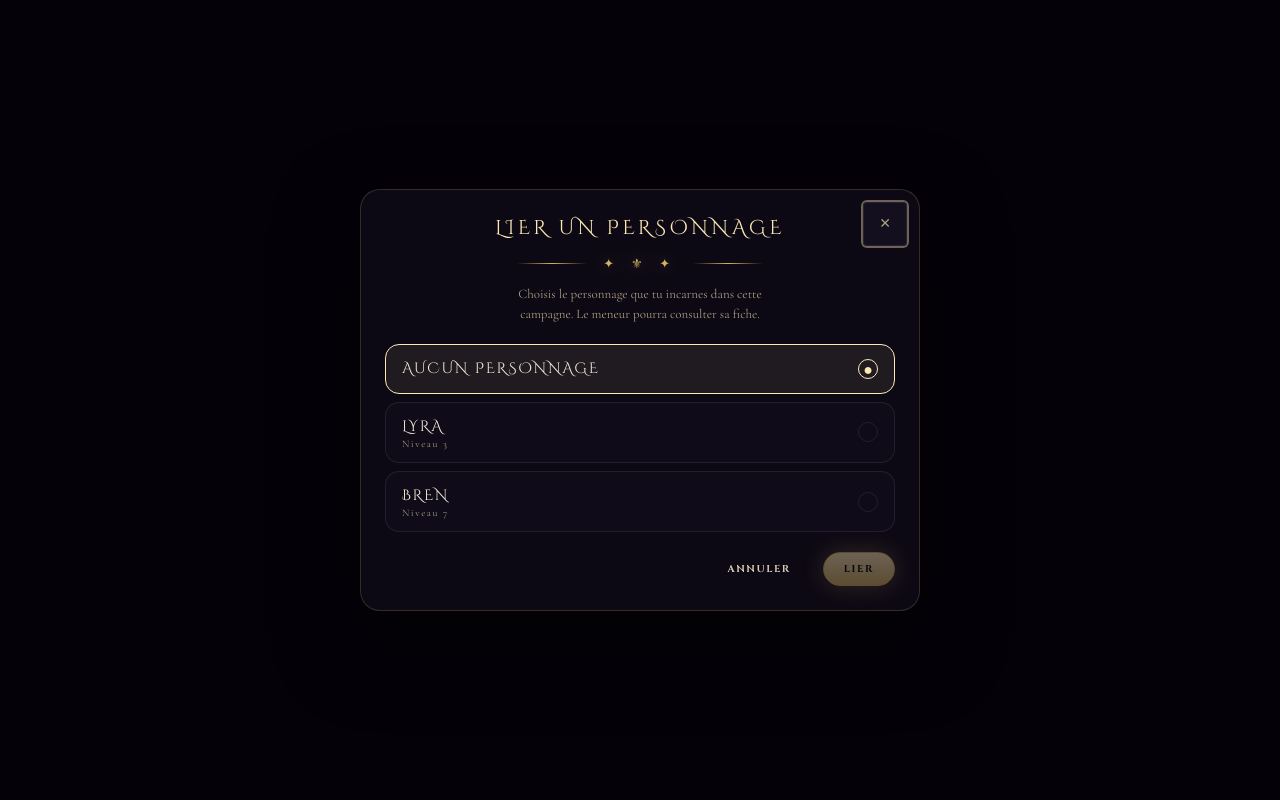
Test case: <LinkCharacterModal> › échec du service : affiche l’alerte et ne ferme pas
Click the radio button labelled "Bren Niveau 7 ●" at (426, 495), box [385,471,895,532]
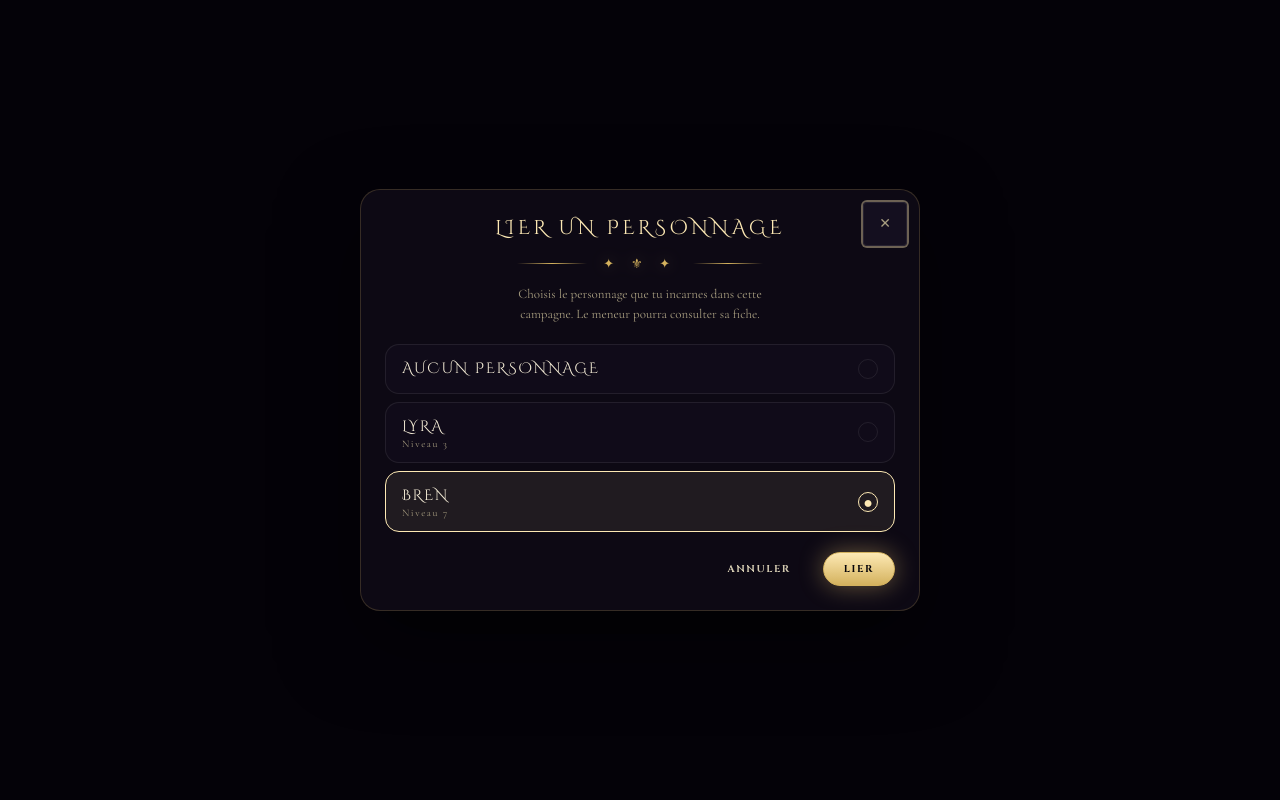
Click the button "Lier" at (859, 569), box [823,552,895,586]
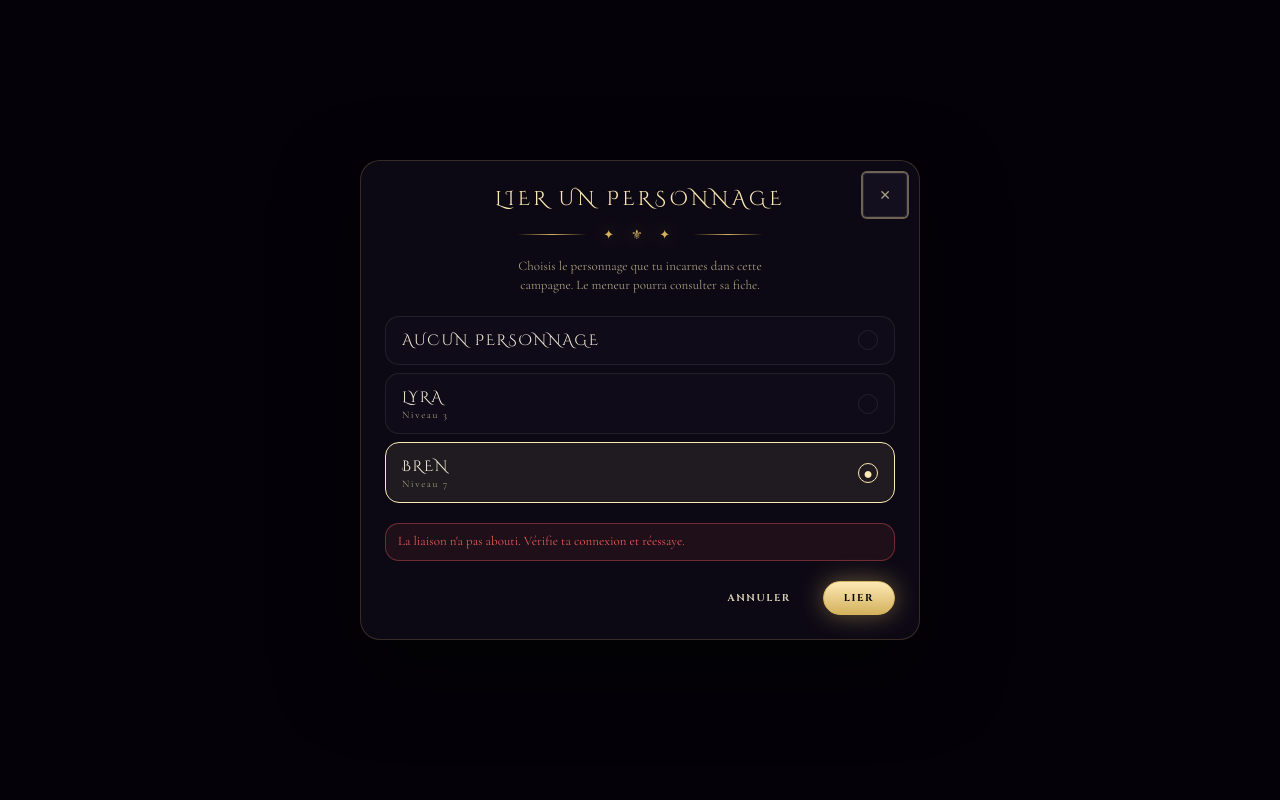
Expected: the message "La liaison n'a pas abouti. Vérifie ta connexion et réessaye." is shown, [385,523,895,561]
